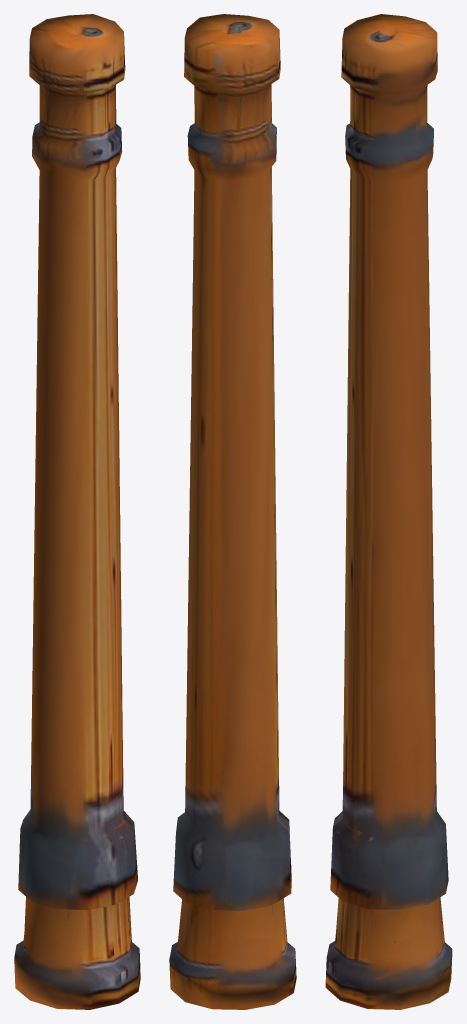
Rendered from topmast.glb.
3 views of the same model, side by side, from view 1: azimuth 90°, elevation 25°; view 2: azimuth 150°, elevation 25°; view 3: azimuth 330°, elevation 25° (orthographic).
Visible parts, largest first — view 1: topmast; view 2: topmast; view 3: topmast.
Boxes of the visible parts, x1,y1,x2,y2 form: topmast: (14,14,140,1009); topmast: (169,14,296,1009); topmast: (325,14,452,1009).
Size of the model in its own units: 0.36 by 3 by 0.3606.
1 material, 1 textured.
